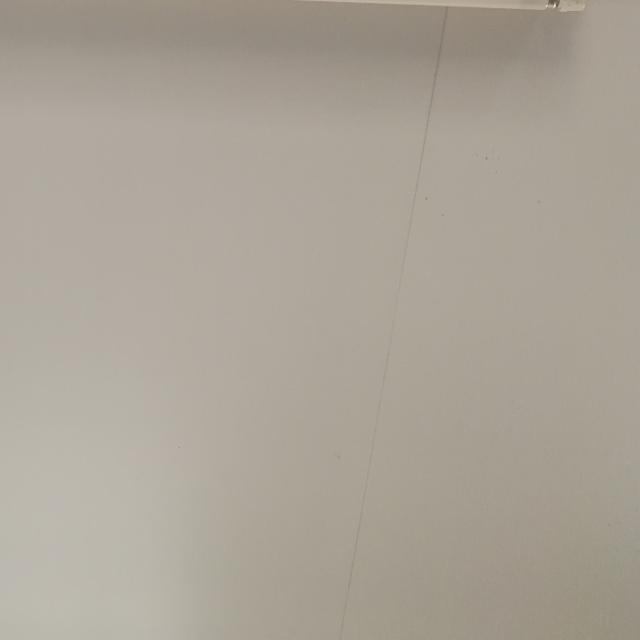fluorescent tube: (0, 0, 605, 52)
